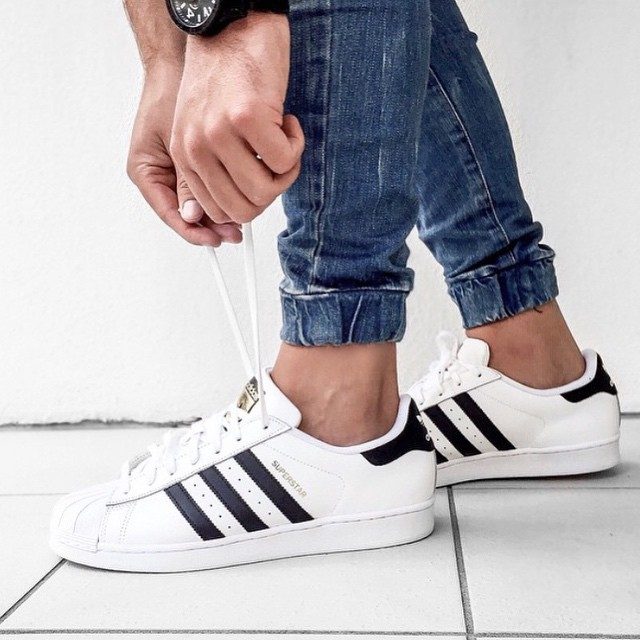sneaker: (35, 295, 462, 589), (353, 266, 639, 501)
